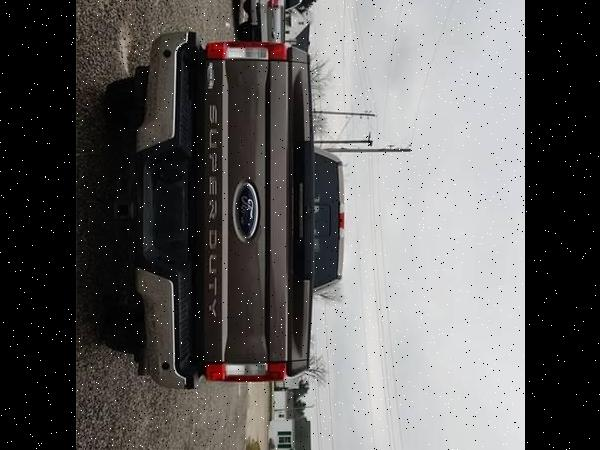Left_Taillight: (202, 40, 285, 64)
Rear_Bumper: (128, 31, 202, 391)
Rear_Windshield: (312, 145, 343, 298)
Right_Taillight: (203, 362, 286, 381)
Tailgate: (196, 46, 310, 377)
